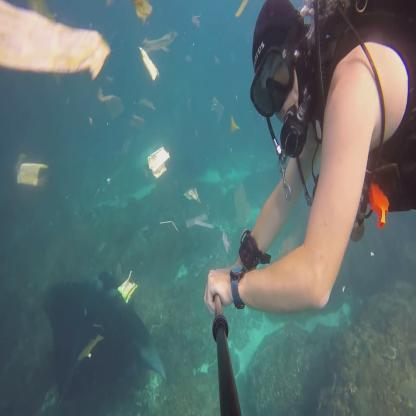Rác: (0, 0, 112, 79), (14, 154, 50, 188), (138, 44, 163, 88), (143, 146, 174, 178), (142, 34, 185, 54), (116, 268, 139, 298), (179, 210, 220, 226), (95, 84, 122, 104), (132, 94, 156, 116), (227, 115, 244, 142), (230, 1, 250, 21), (216, 226, 234, 248), (207, 95, 225, 117), (157, 218, 182, 233), (186, 185, 202, 203)
